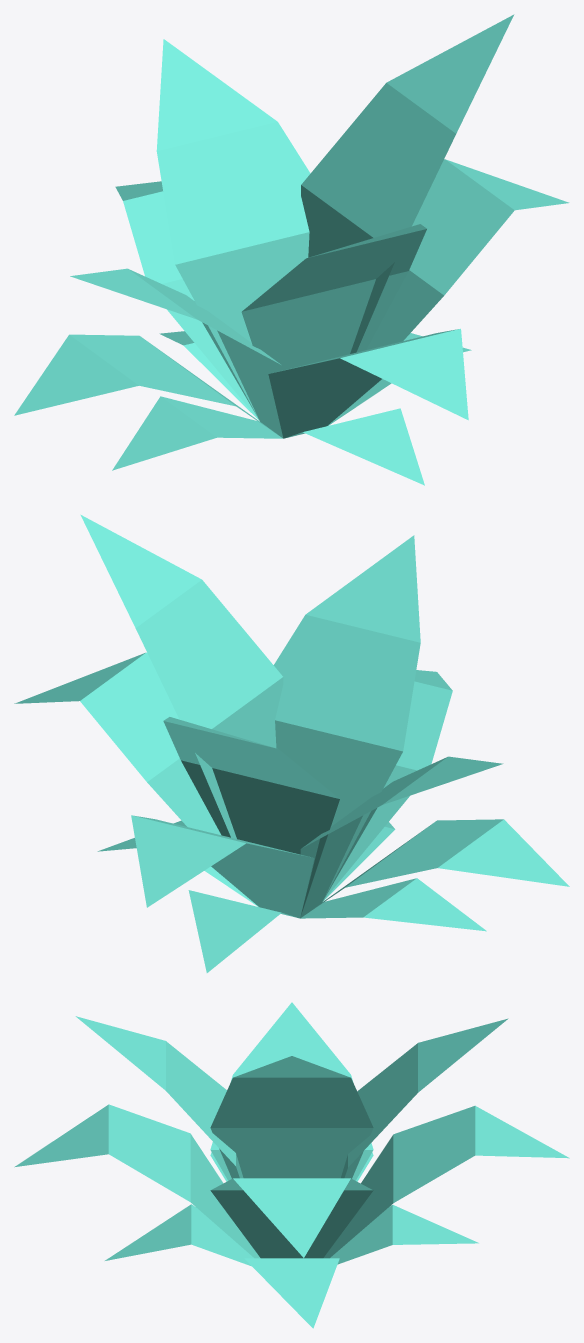
The model's file is plant_bushDetailed.glb.
3 views of the same model, one above another, from view 1: azimuth 30°, elevation 25°; view 2: azimuth 150°, elevation 25°; view 3: azimuth 270°, elevation 25° (orthographic). The views are drawn at different scales.
Visible parts, largest first — view 1: plant_bushDetailed; view 2: plant_bushDetailed; view 3: plant_bushDetailed.
Boxes of the visible parts, x1,y1,x2,y2 form: plant_bushDetailed: (14, 14, 569, 485); plant_bushDetailed: (14, 514, 569, 972); plant_bushDetailed: (14, 1002, 569, 1328).
Size of the model in its own units: 0.6025 by 0.3604 by 0.6025.
